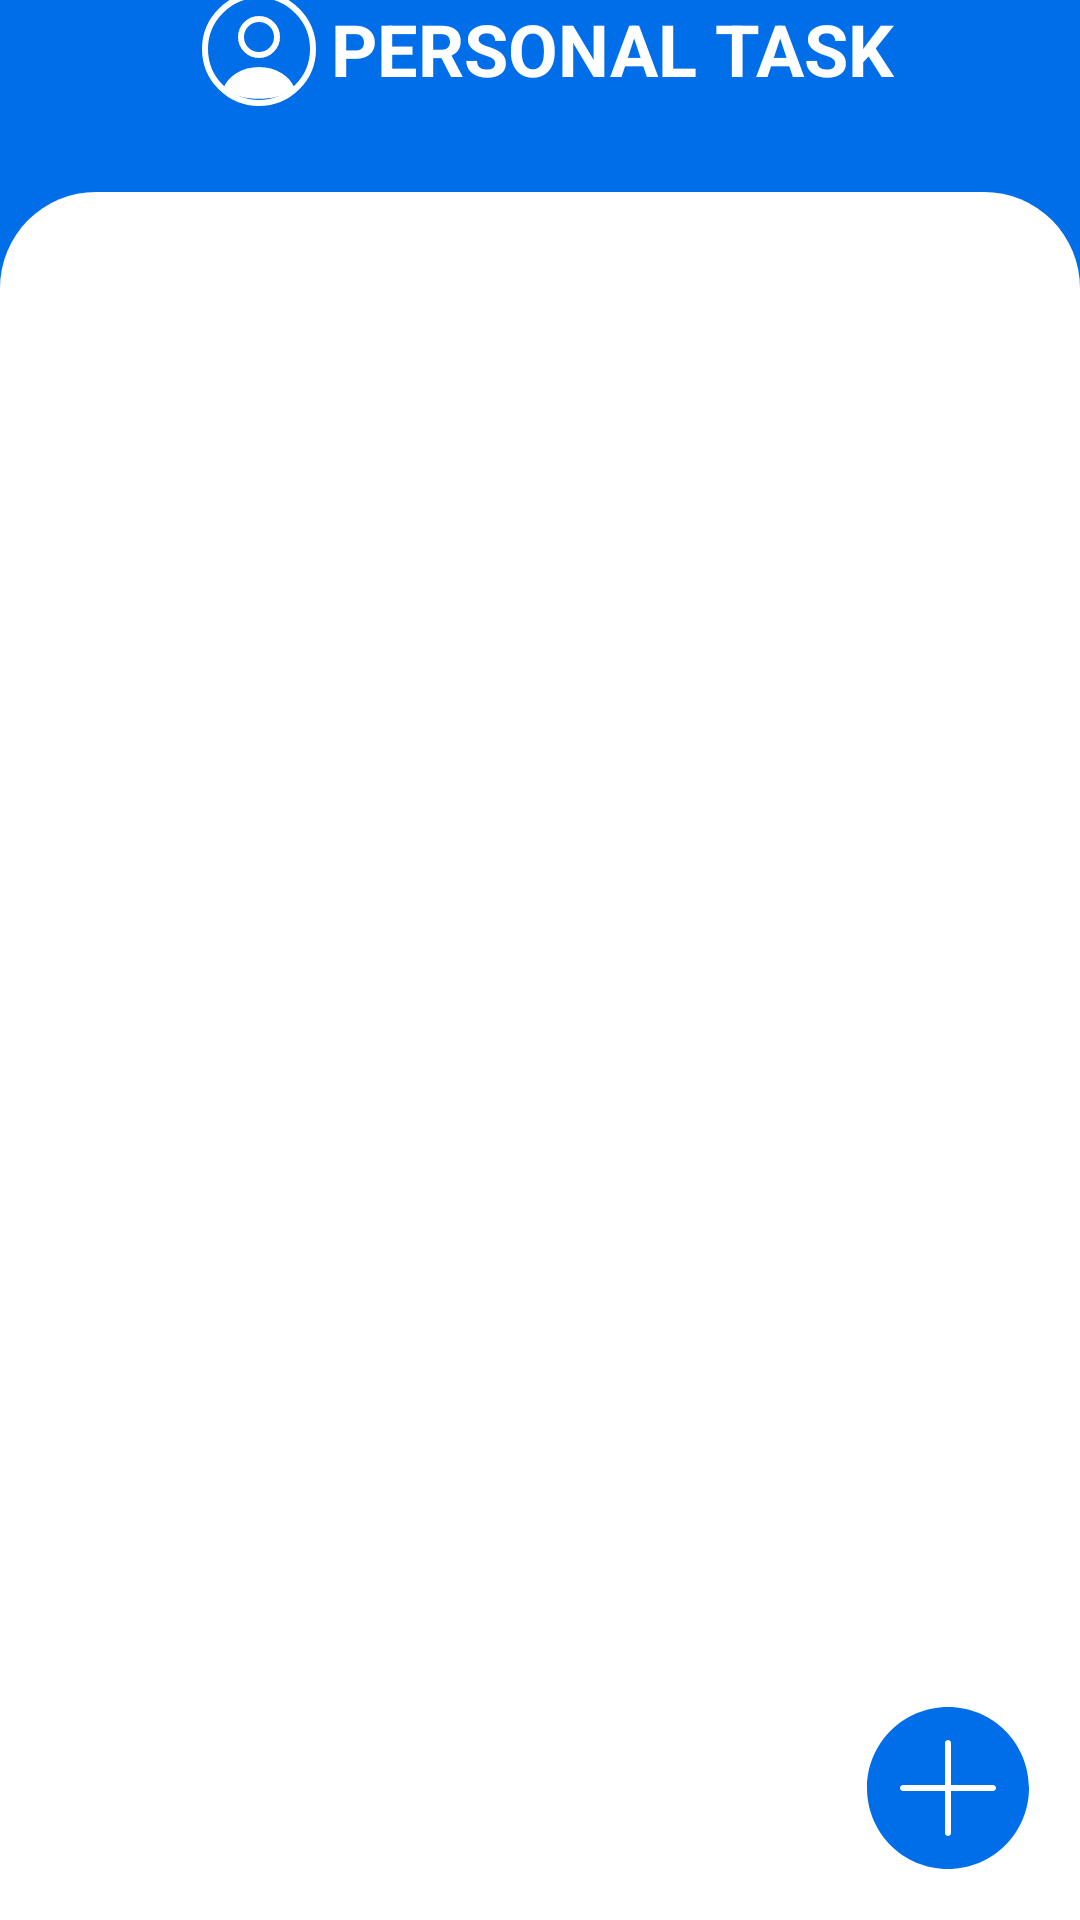

Locate icon controls on the screen. Image size 1080 × 1920, boxes as {"x1": x1, "y1": y1, "x2": x2, "y2": y2}.
add: {"x1": 867, "y1": 1707, "x2": 1029, "y2": 1869}
